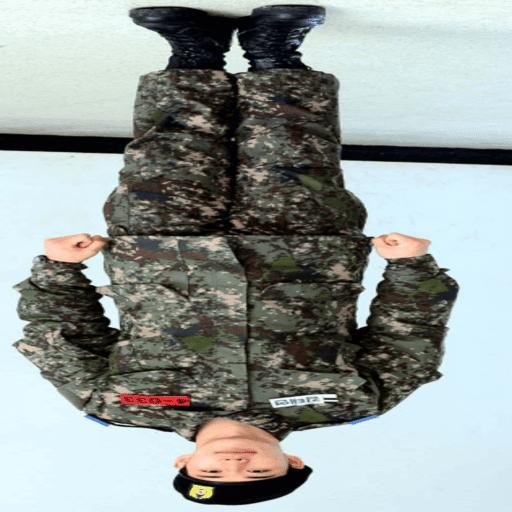korea army: (11, 2, 459, 505)
